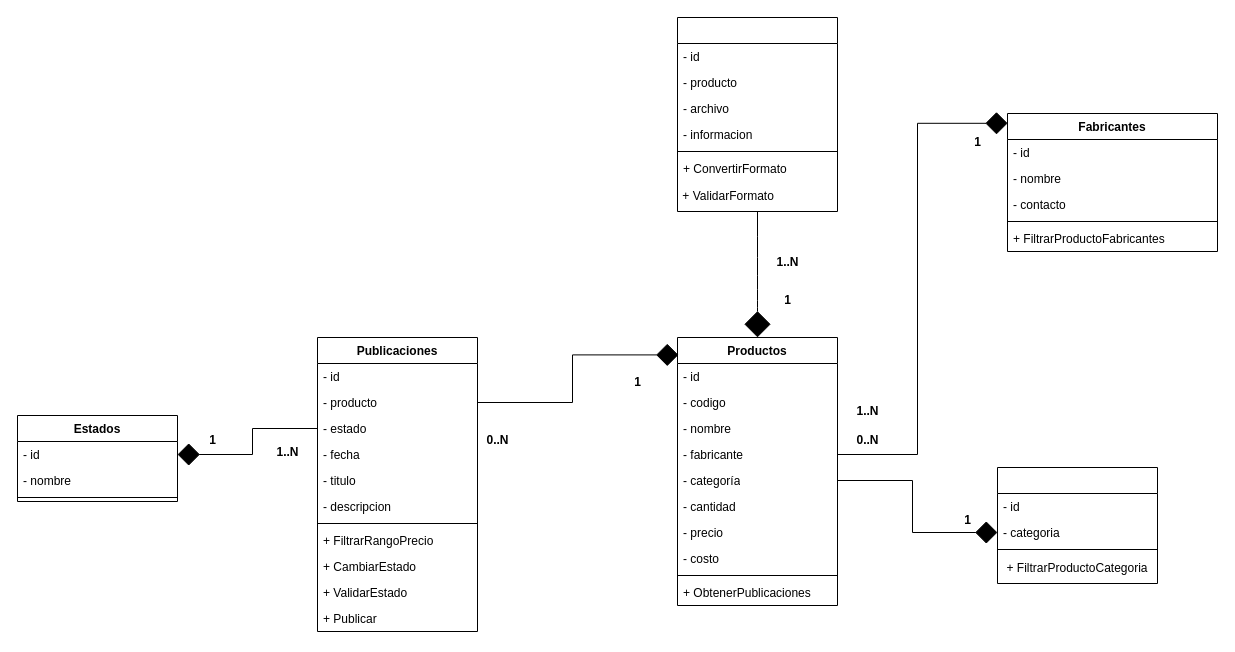
Some shapes in this 1235 by 652 pixel diagram are drawn without their labels. Here are the shapes that lost their labels. From the top down, the box of each, then its label:
(676, 16, 838, 212): Imagenes
(996, 466, 1158, 584): Categorias
